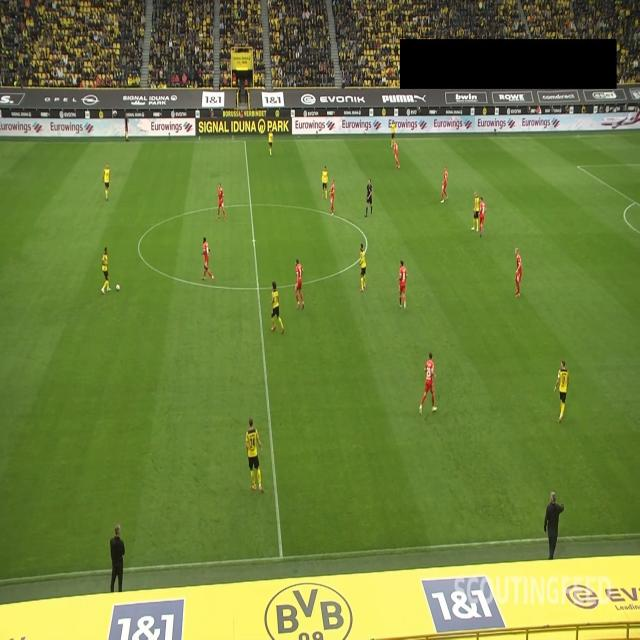ball: (116, 283, 120, 293)
